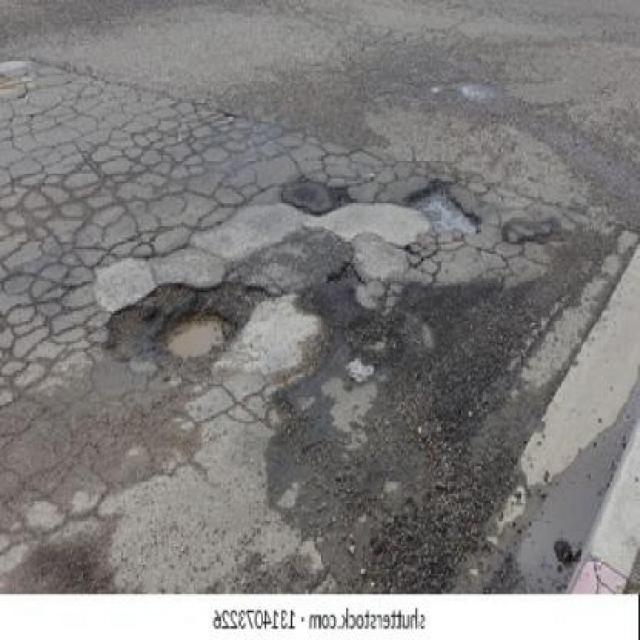Pothole: (96, 273, 279, 380), (402, 171, 487, 238)
